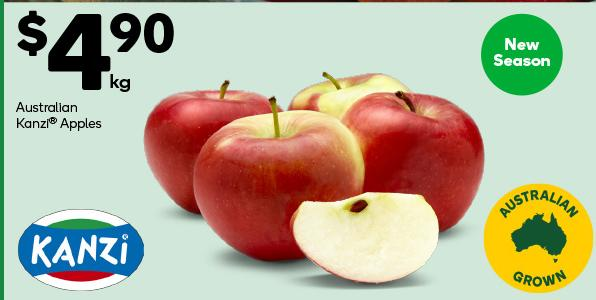description_block: (10, 98, 112, 135)
price_main: (7, 5, 175, 96)
product_image_block: (139, 68, 492, 286)
